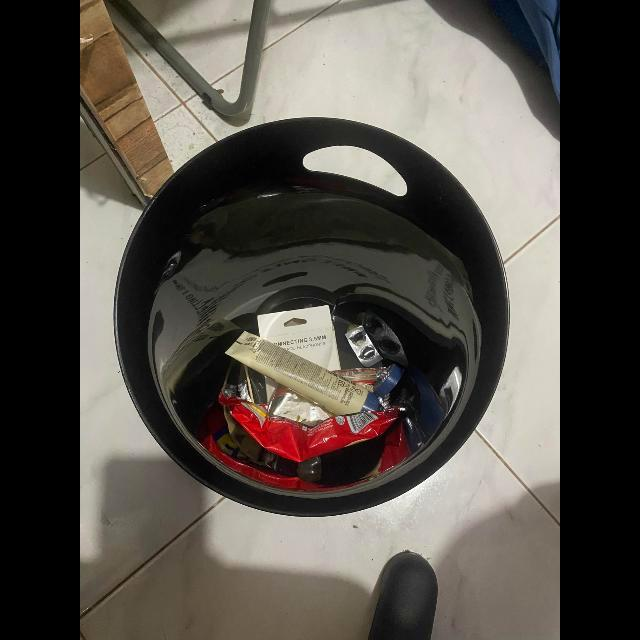cardboard: (257, 305, 341, 371), (264, 376, 279, 403)
food_wrapper: (219, 391, 399, 462)
plastic_container: (225, 332, 403, 416)
